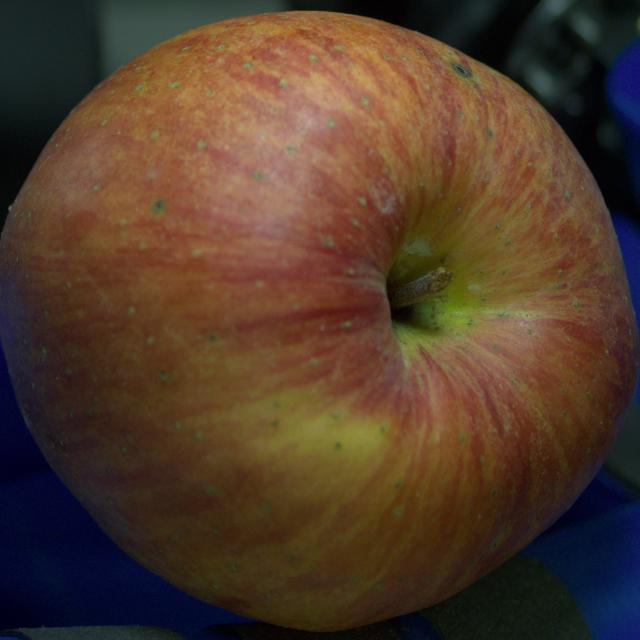apple: (0, 12, 639, 631)
pest: (454, 64, 471, 76)
